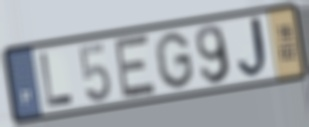5: (77, 40, 113, 104)
9: (194, 23, 233, 86)
E: (113, 32, 158, 101)
G: (153, 30, 196, 91)
J: (236, 13, 274, 82)
L: (38, 51, 76, 110)
